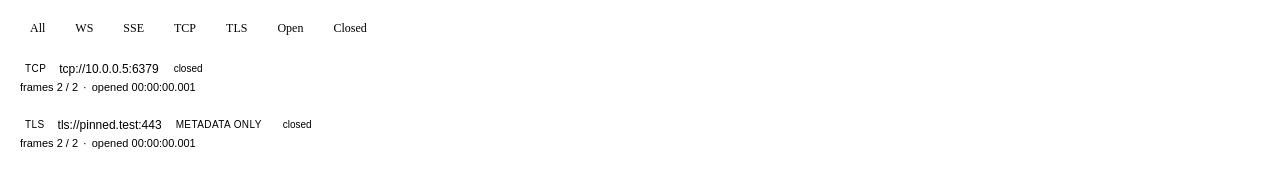
Test: Sockets view: raw streams › lists stream sessions with their kind badge and filters TCP / TLS
Check: the button with test id "ws-row-t1" shows "TCP", box [8, 48, 1272, 104]
Check: the button with test id "ws-row-p1" shows "TLS", box [8, 104, 1272, 160]
Step 1. Click the button "TLS" → (237, 28), box [214, 14, 259, 42]
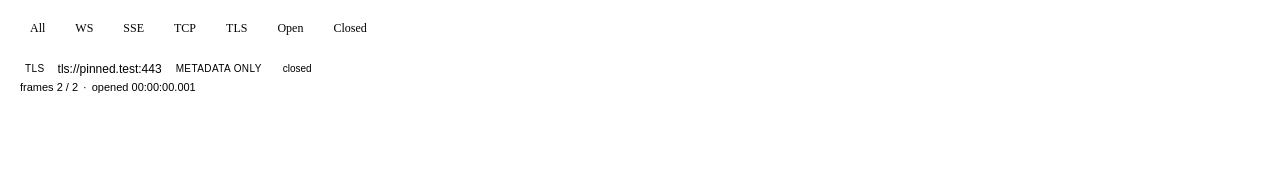
Check: the button with test id "ws-row-p1" is shown, box [8, 48, 1272, 104]
Check: the button with test id "ws-row-t1" is gone
